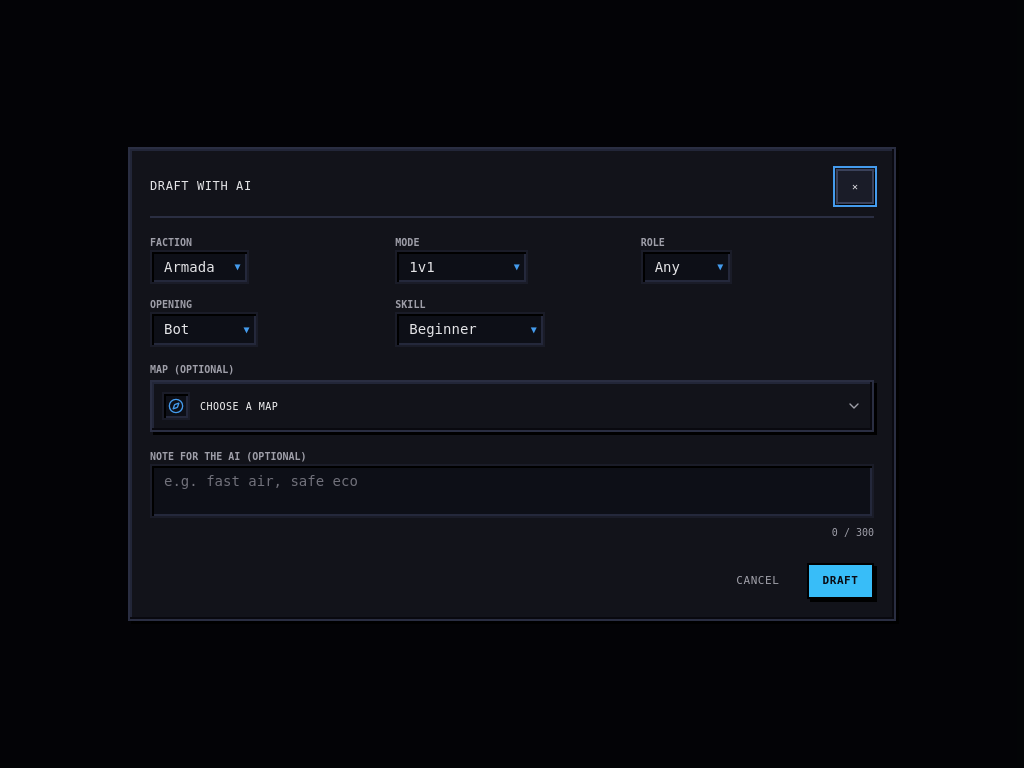
Test: AiDraftDialog › cannot save a draft with errors, and explains an unusable answer
Step 1. Click the button "DRAFT" → point(840, 581), box [807, 563, 874, 599]
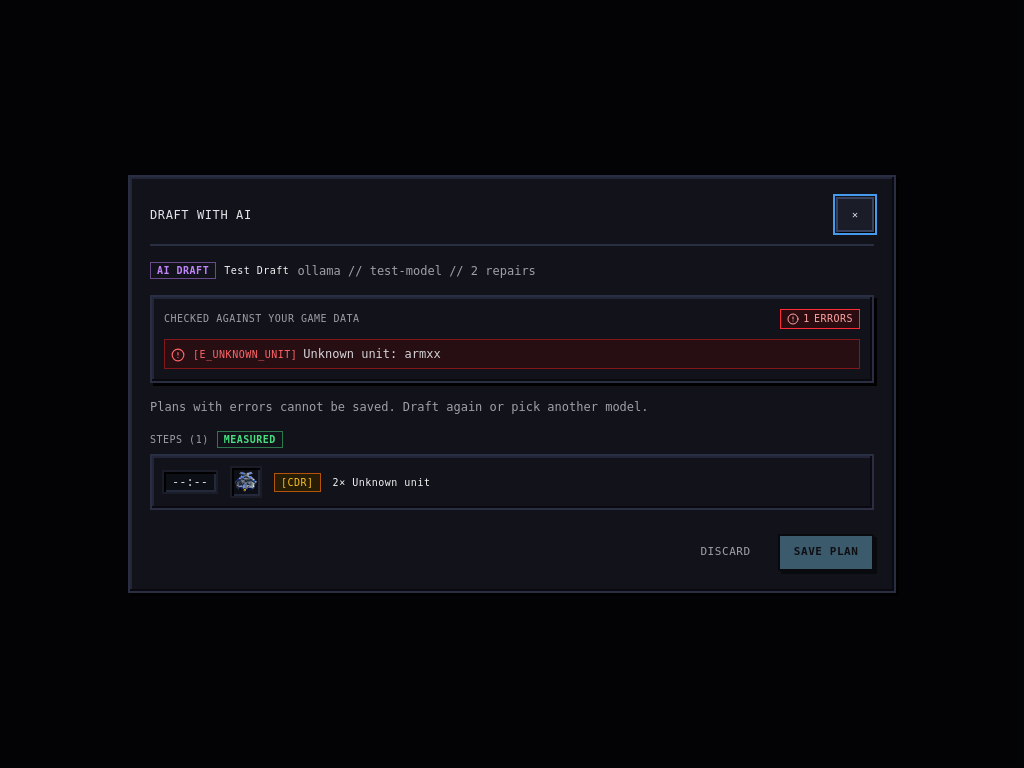
expect the text "Unknown unit: armxx" is shown: met, box [303, 347, 441, 361]
Step 2. Click the button "DISCARD" → point(726, 553), box [685, 534, 766, 571]
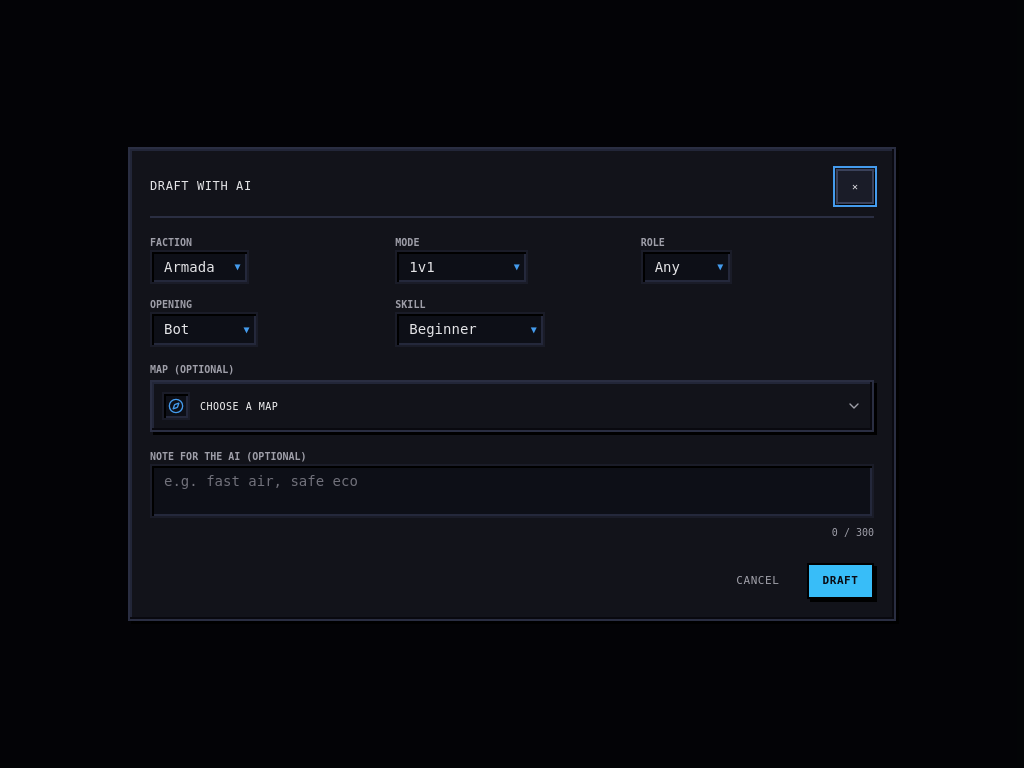
Step 3. Click the button "DRAFT" → point(840, 581), box [807, 563, 874, 599]
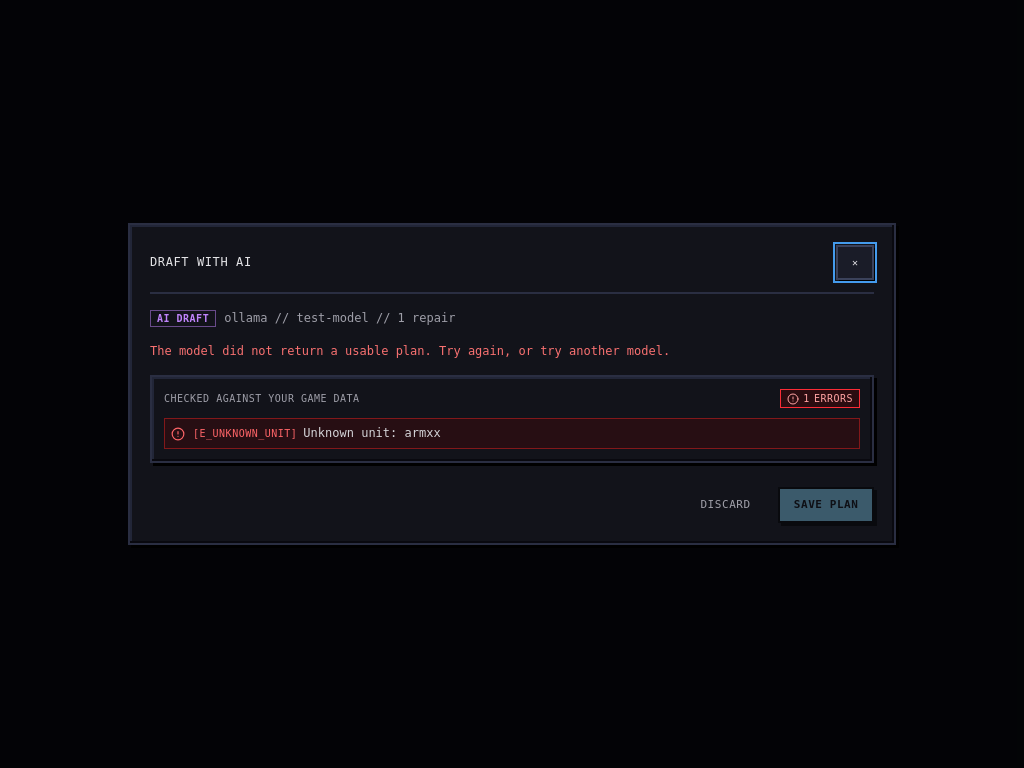
Step 4. Click the button "DISCARD" → point(726, 505), box [685, 487, 766, 523]
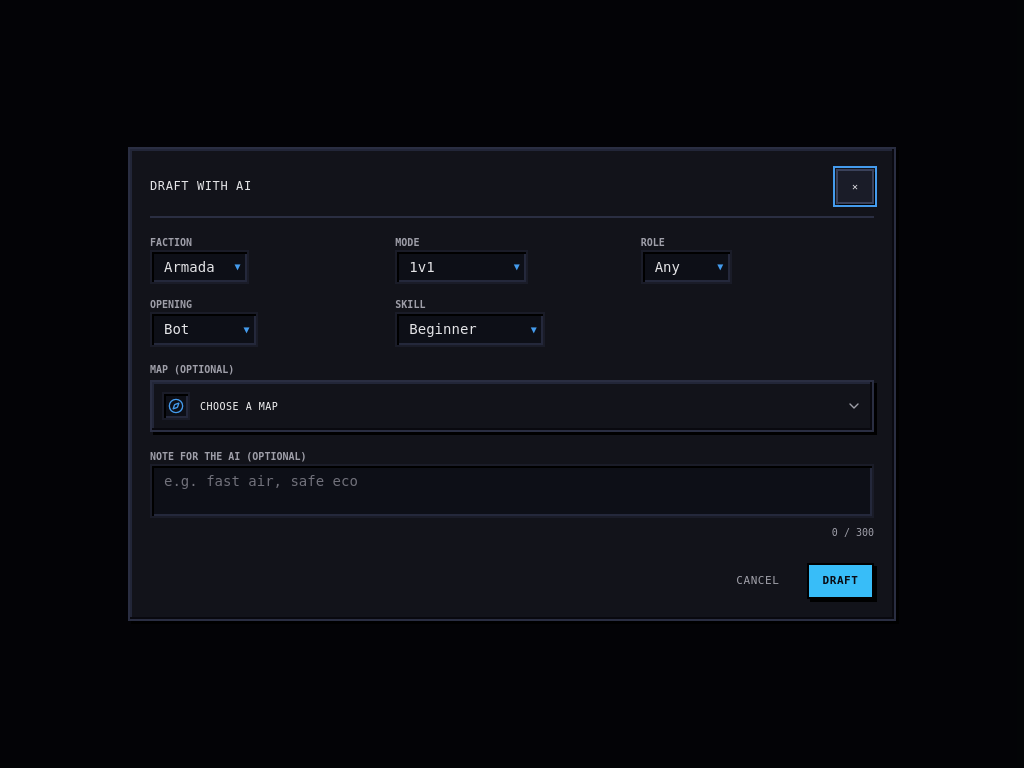
Step 5. Click the button "DRAFT" → point(840, 581), box [807, 563, 874, 599]
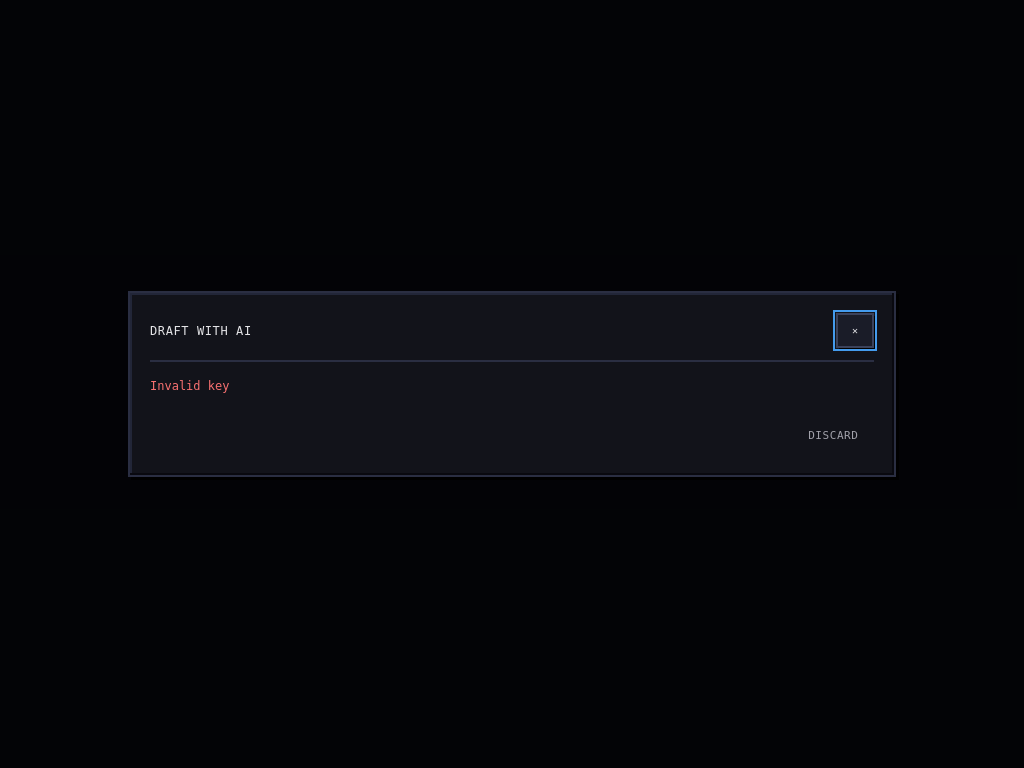
expect the text "Invalid key" is shown: met, box [150, 379, 230, 393]
